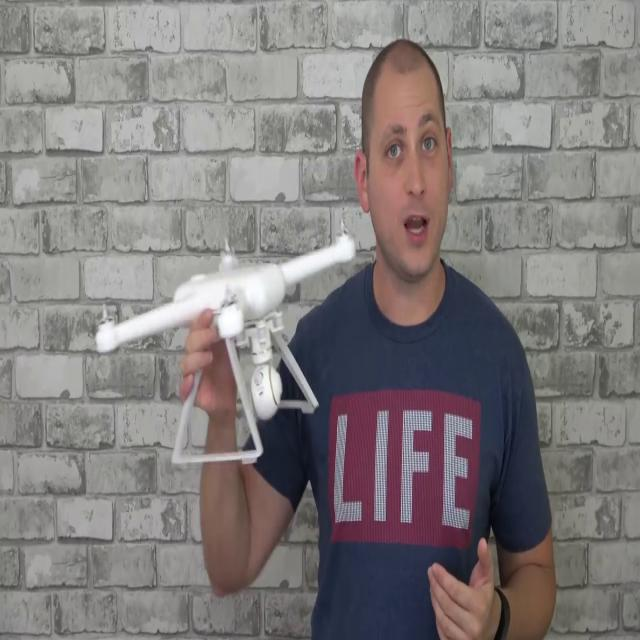drone: (90, 222, 356, 483)
